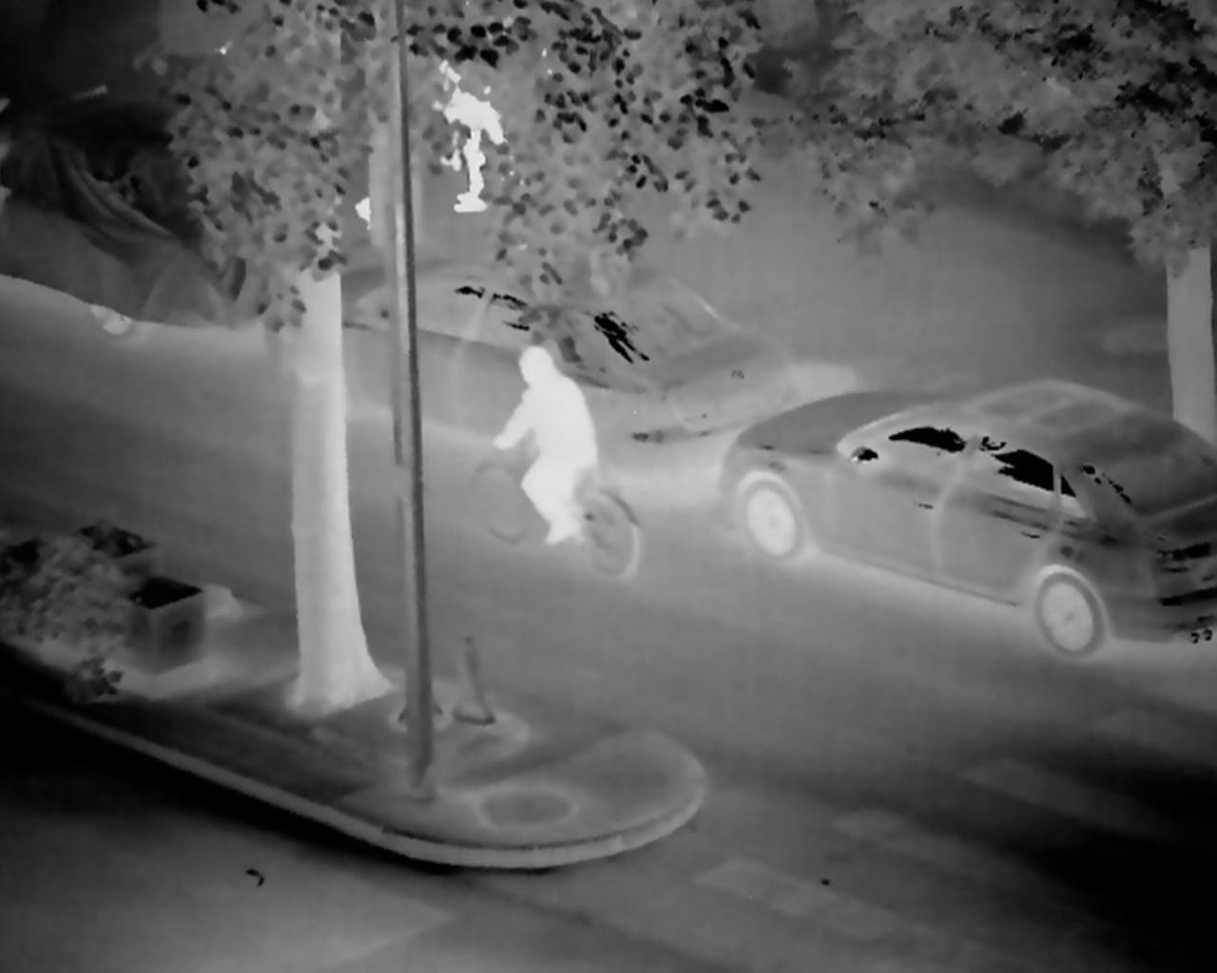person: (496, 344, 604, 549)
